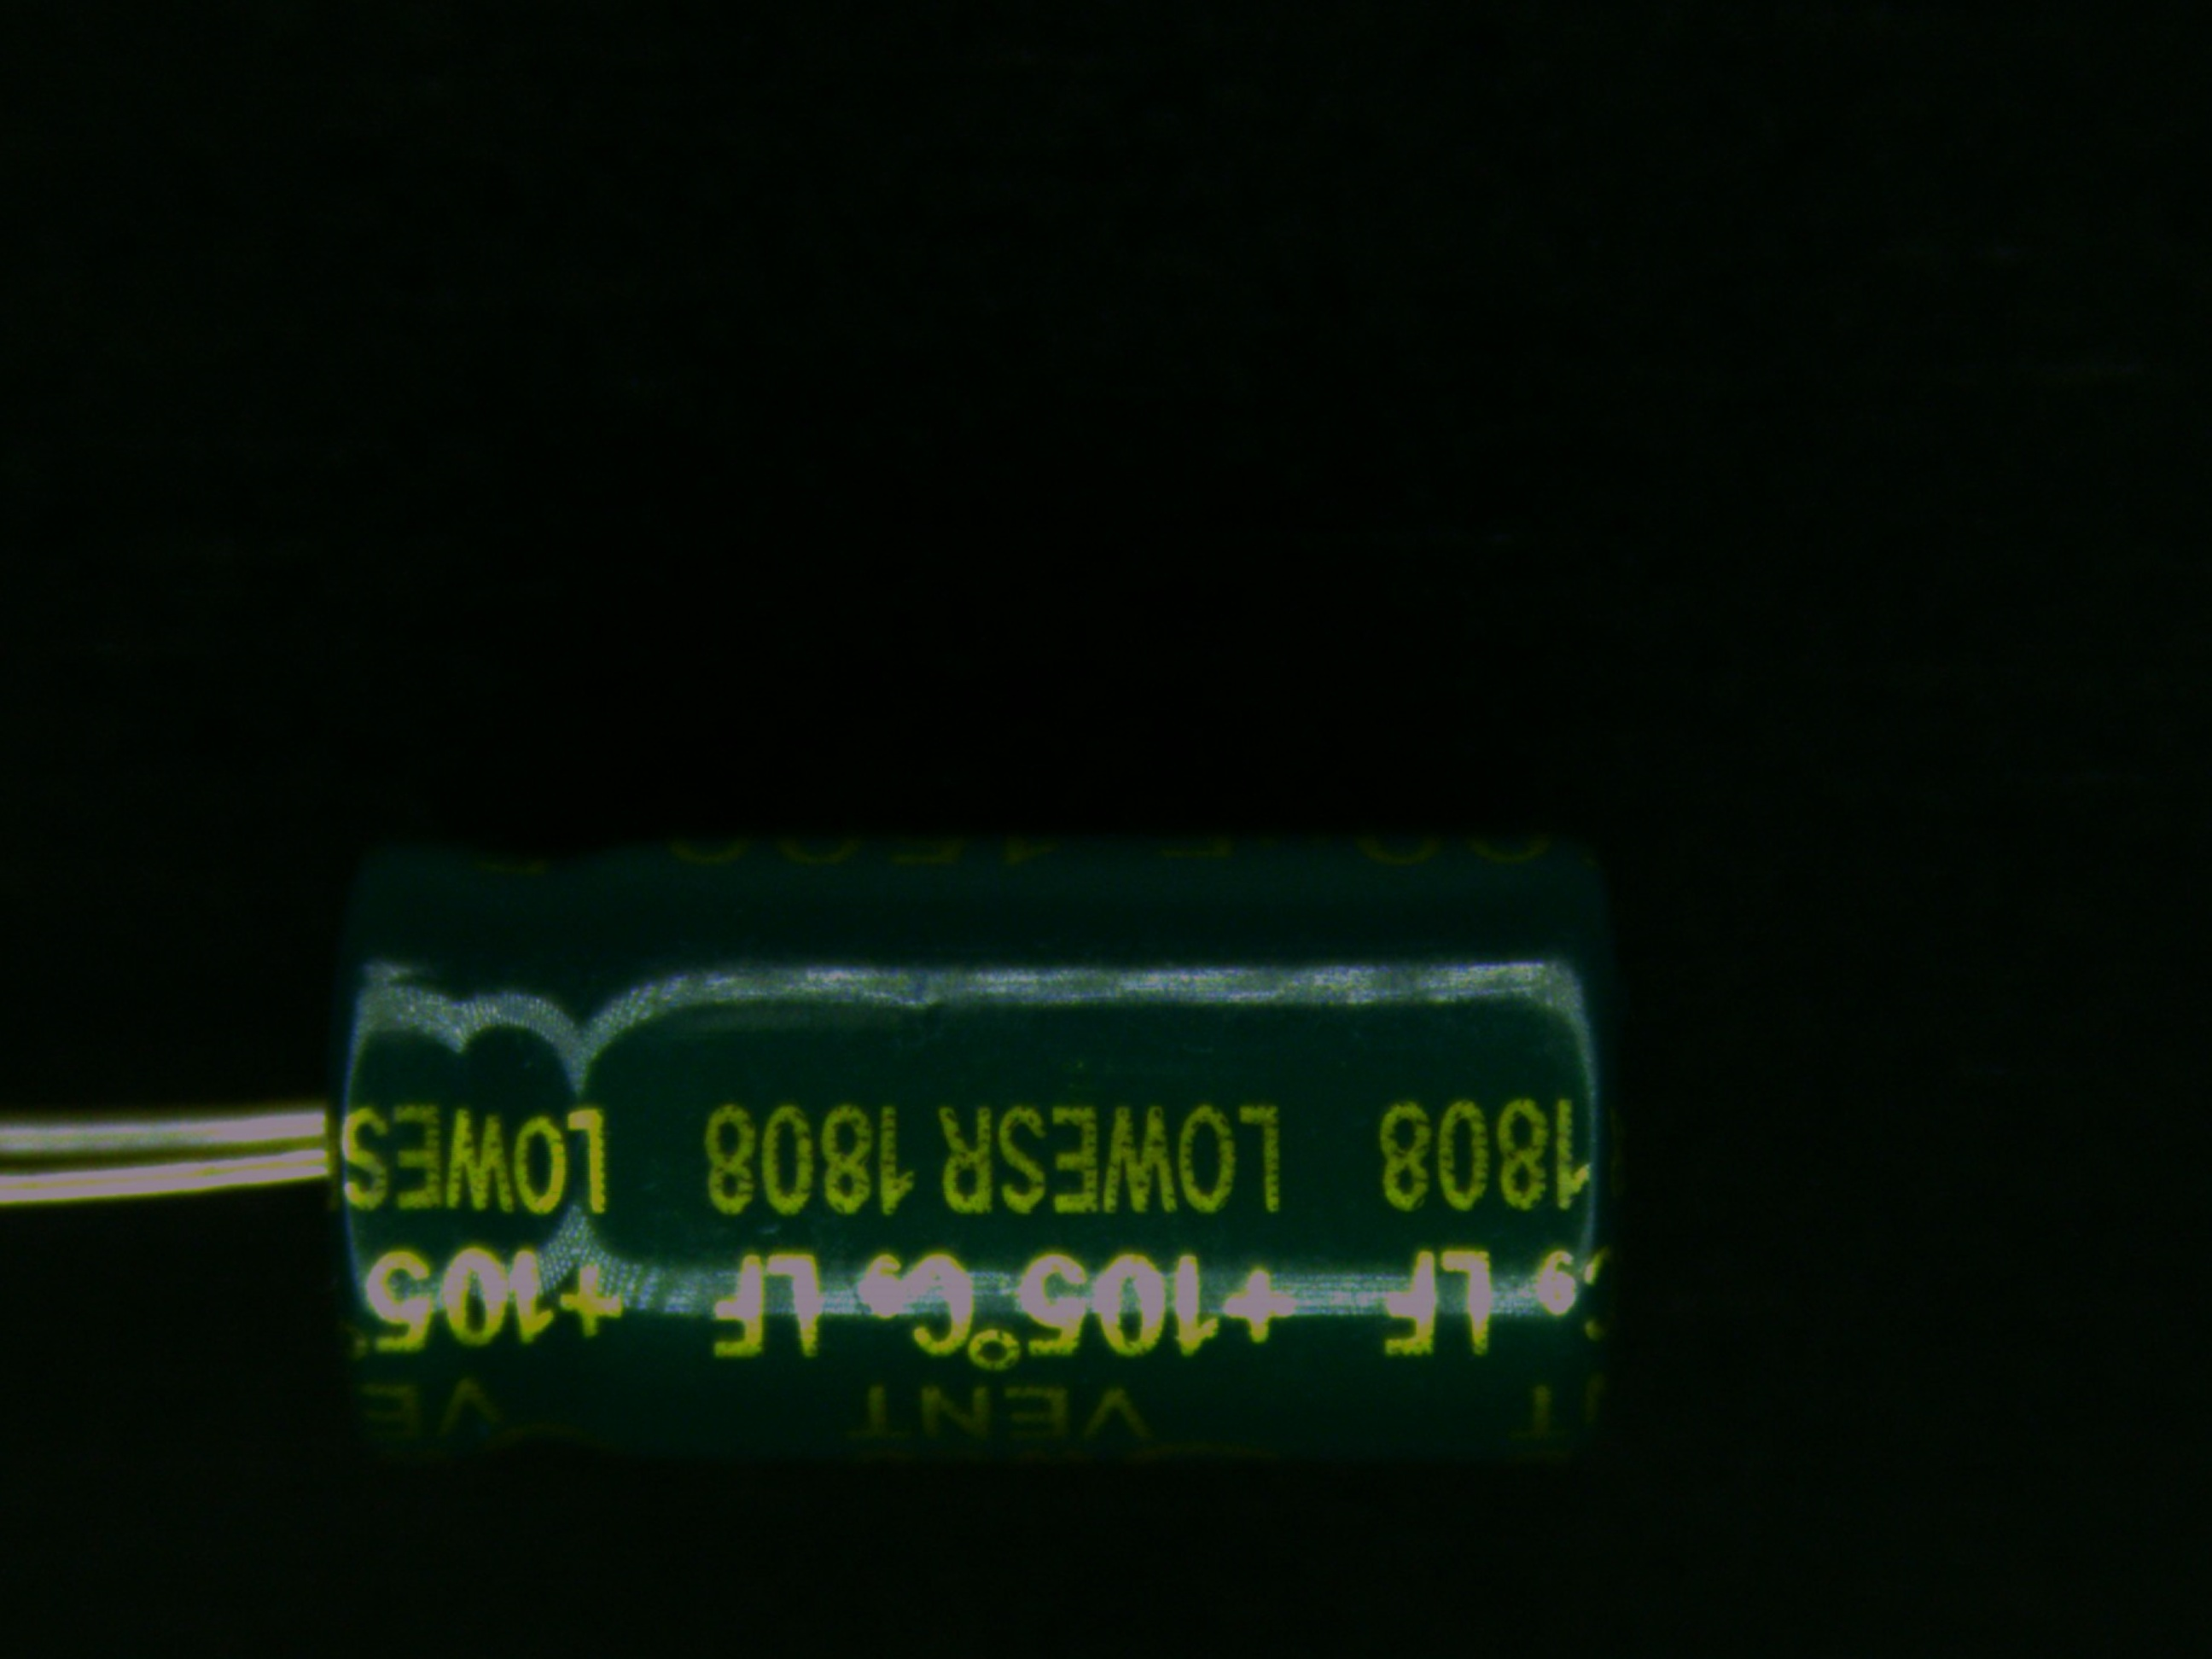c1: (186, 823, 1632, 1441)
